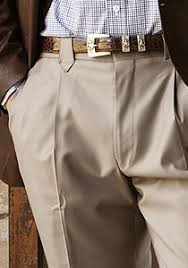F_belt: (27, 26, 177, 66)
